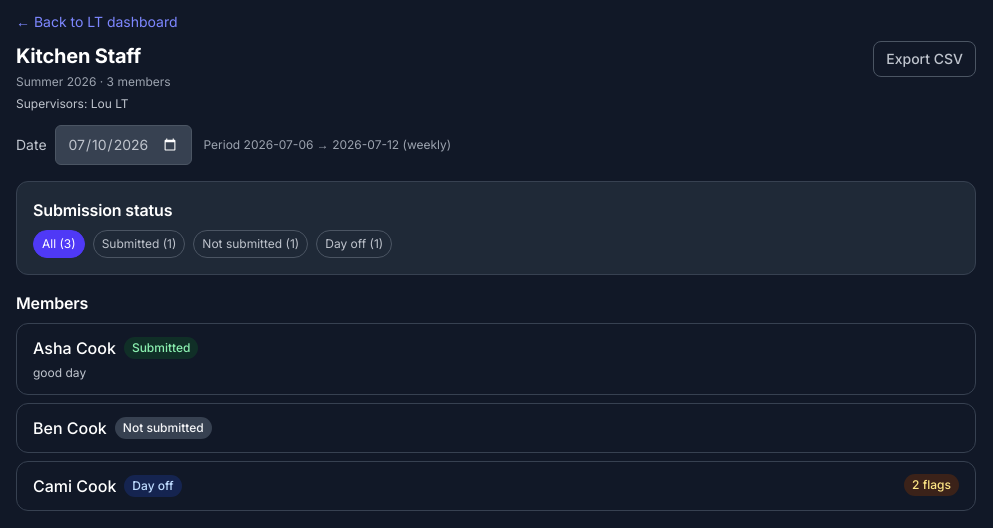
Test: LeadershipTeamTeamDashboard › filters member rows by status when a filter chip is clicked
Expected: the element with test id "lt-team-members" is shown, [16,291,976,511]
Step 1. Click the button with test id "lt-filter-not_submitted" → (251, 244), box [193,230,308,258]
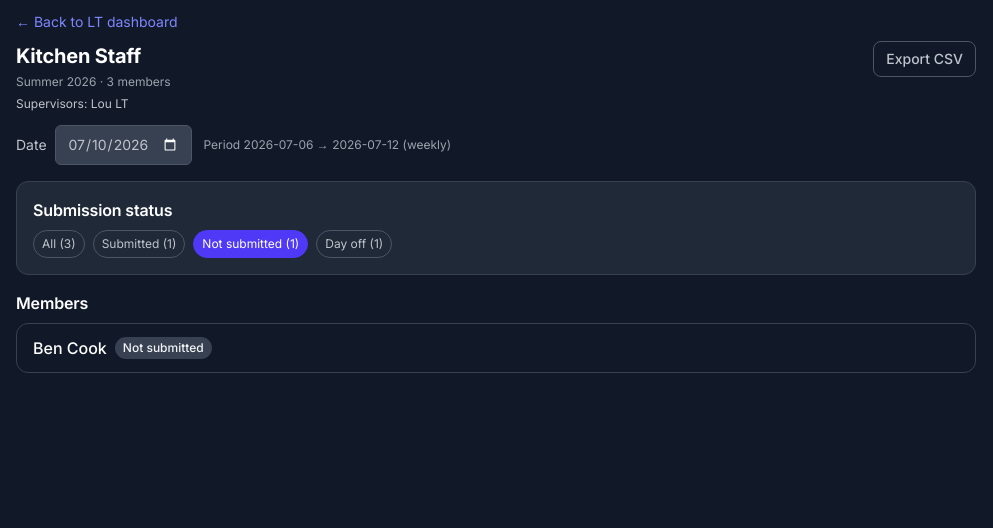
Expected: the list item with test id "lt-member-row-12" is shown, [16,323,976,373]
Expected: the list item with test id "lt-member-row-11" is gone
